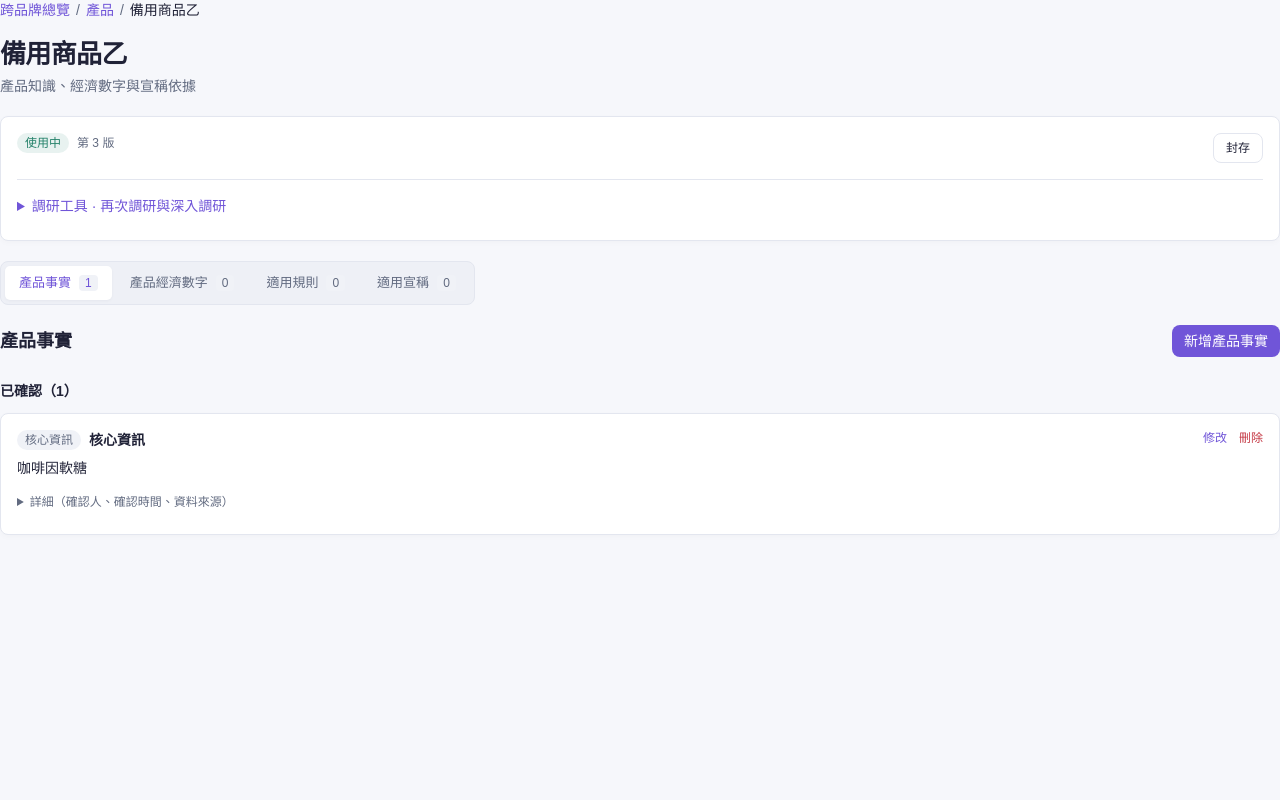
Scenario: ProductDetailPage 封存 (F47-I05, drill-10 V9) › 封存 asks once and says what happens; 取消 archives nothing, 確定封存 does
This screenshot has width=1280, height=800.
Click the button "封存". click: (1238, 148)
box: [1213,133,1263,163]
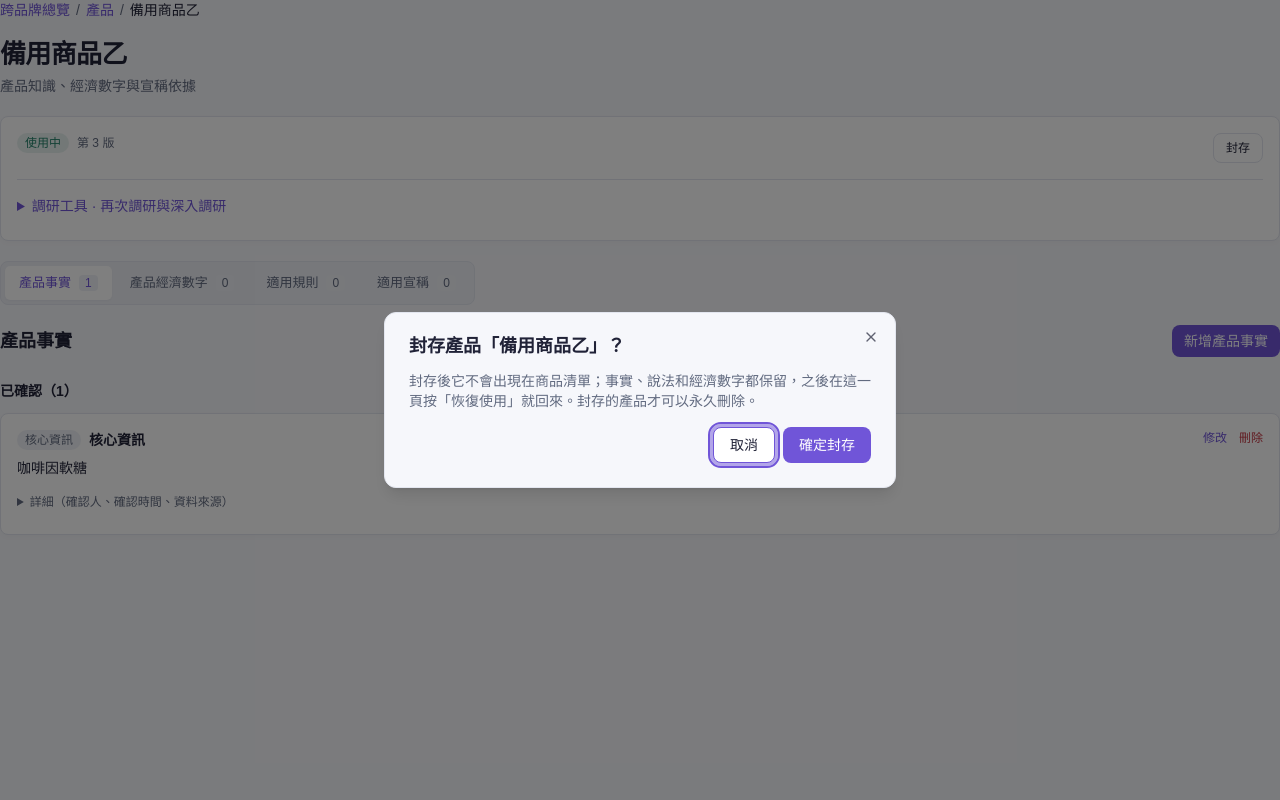
Expected: the dialog shows "封存產品「備用商品乙」？", [384,312,896,488]
Expected: the dialog shows "不會出現在商品清單", [409,373,871,409]
Expected: the dialog shows "恢復使用", [409,373,871,409]
Click the button "取消". click: (744, 445)
box: [713,427,775,463]
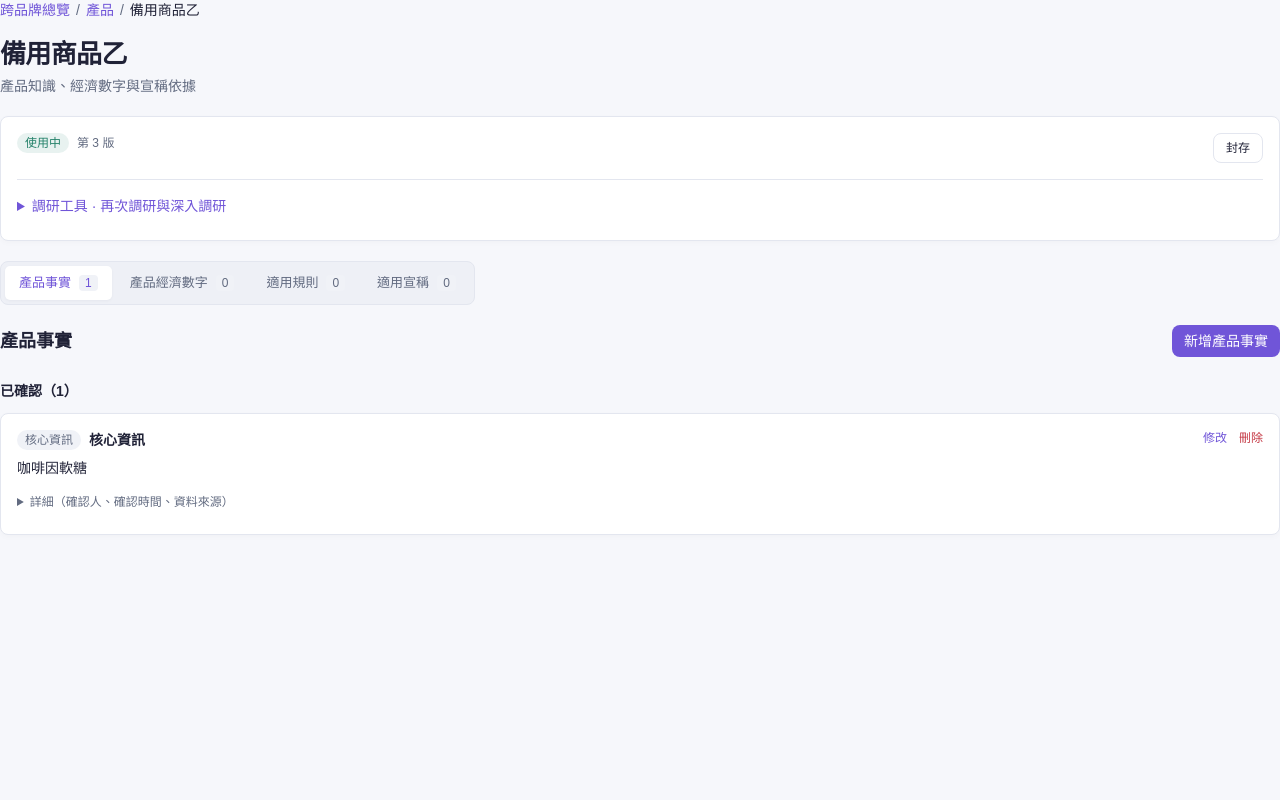
Expected: the dialog is gone
Click the button "封存". click: (1238, 148)
box: [1213,133,1263,163]
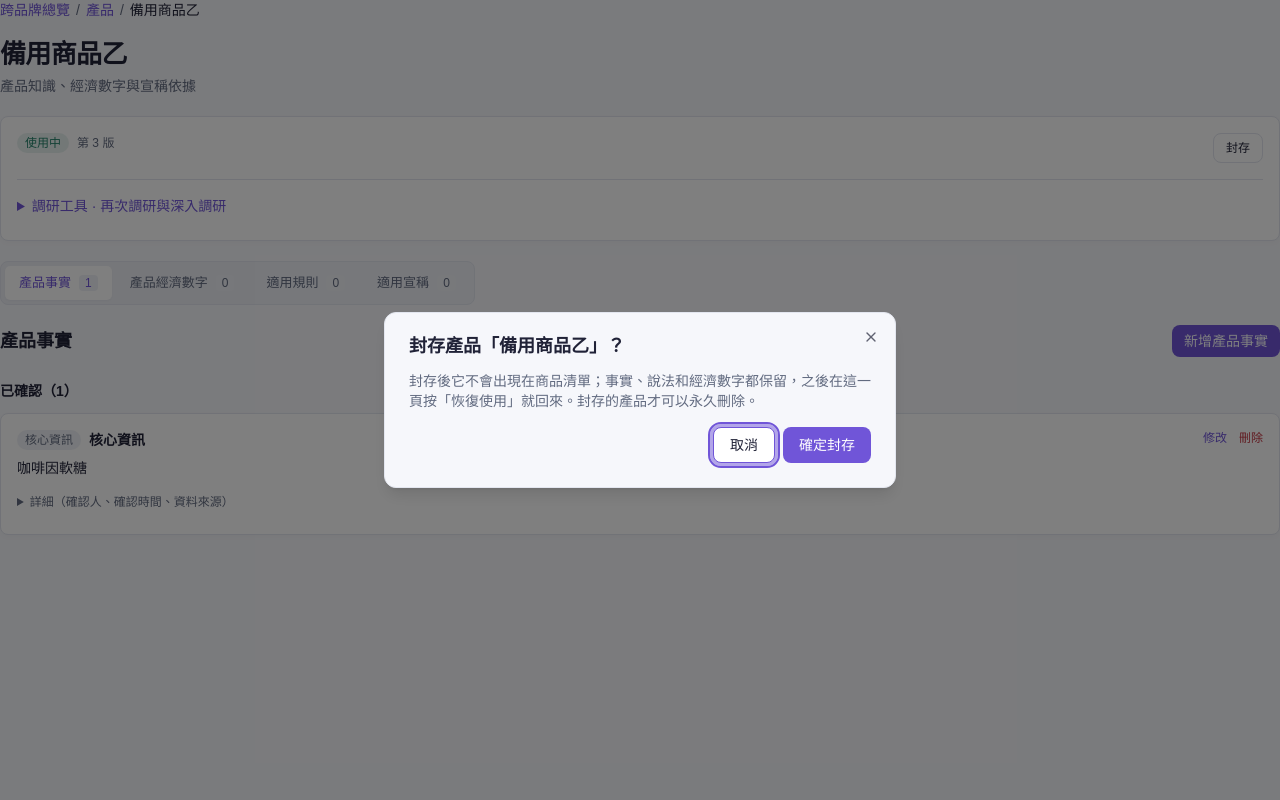
Click the button "確定封存". click: (827, 445)
box: [783,427,871,463]
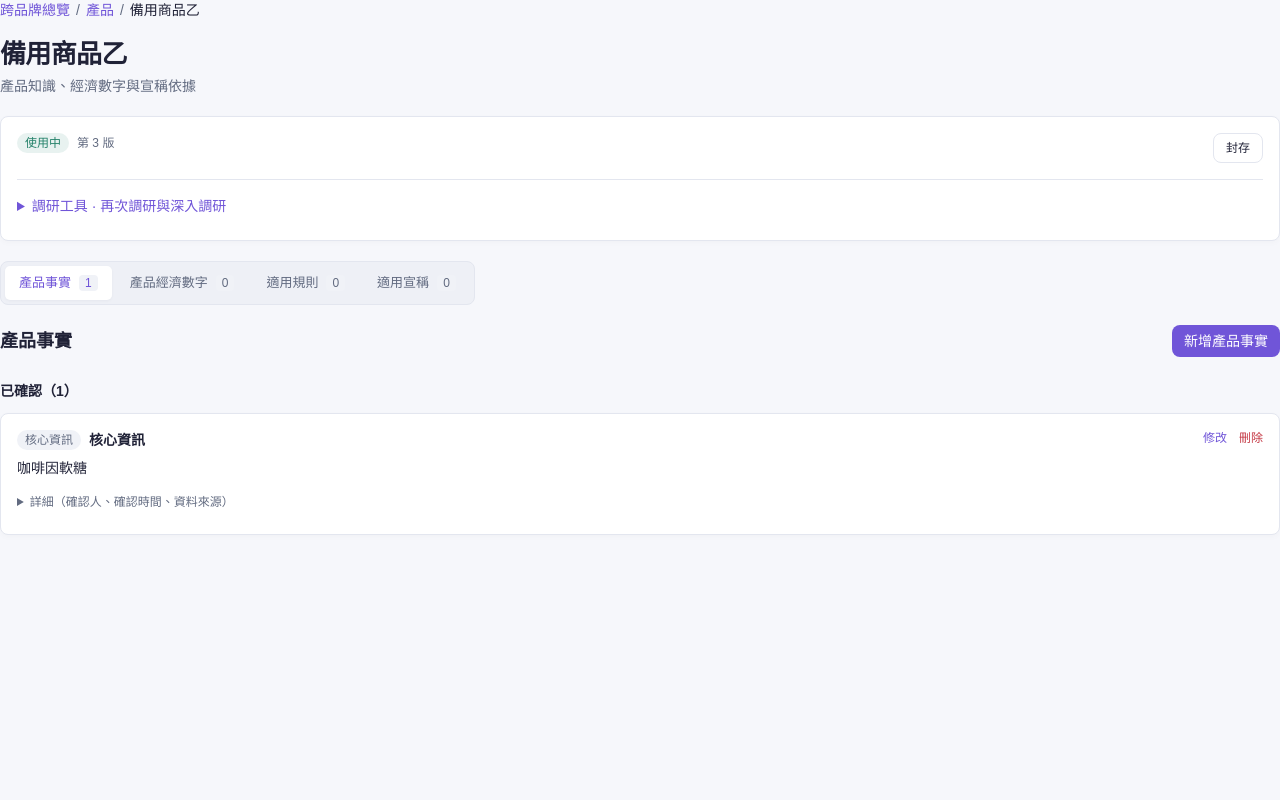
Expected: the dialog is gone
